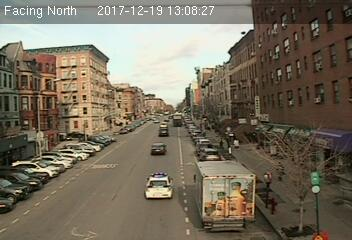car: (198, 148, 222, 161), (151, 142, 169, 154), (159, 127, 170, 136)
police: (144, 171, 175, 202)
truck: (195, 160, 256, 232)
